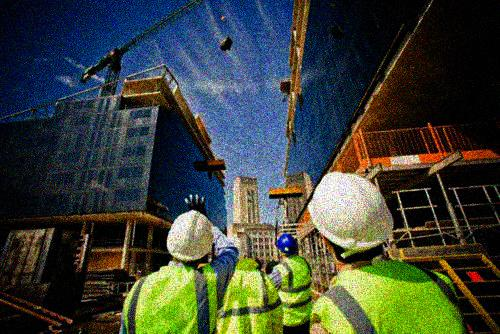helmet: (309, 174, 397, 263), (165, 210, 217, 268), (276, 233, 299, 259)
